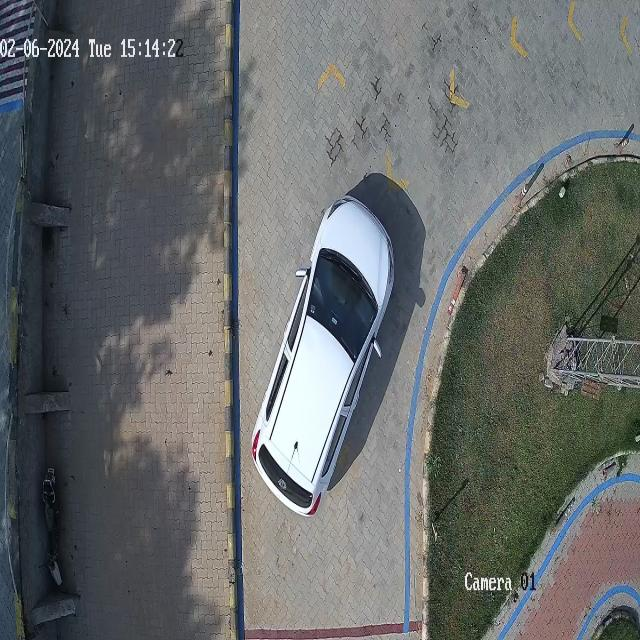car: (250, 192, 397, 517)
